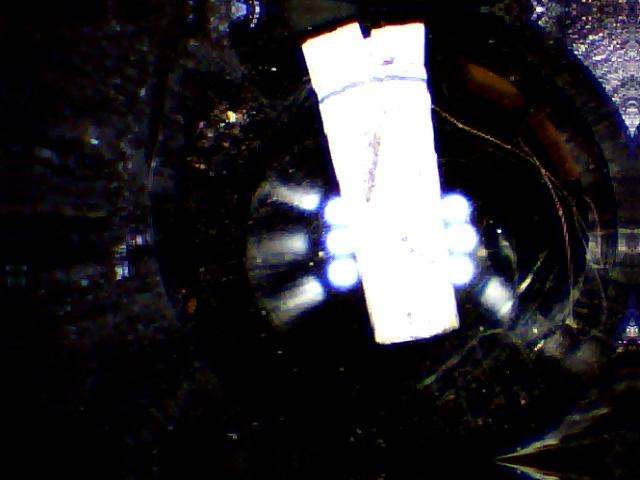megot: (287, 12, 473, 357)
